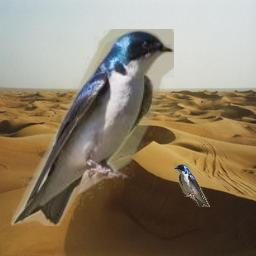Swallow: (11, 29, 174, 226), (174, 164, 210, 207)
